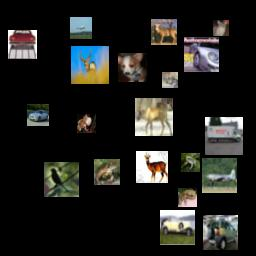airplane: (202, 158, 237, 193), (70, 17, 92, 39)
automobile: (203, 215, 238, 250), (184, 37, 219, 72), (160, 210, 195, 245), (27, 104, 49, 126)
bird: (44, 162, 79, 197)
cat: (162, 72, 178, 88), (213, 20, 229, 36)
deer: (71, 46, 109, 84), (135, 98, 173, 136), (136, 151, 168, 183), (151, 19, 177, 45)
dog: (118, 53, 147, 82)
frog: (94, 159, 120, 185), (77, 114, 96, 133), (178, 188, 197, 207), (181, 153, 200, 172)
truck: (205, 117, 243, 155), (8, 30, 37, 59)
